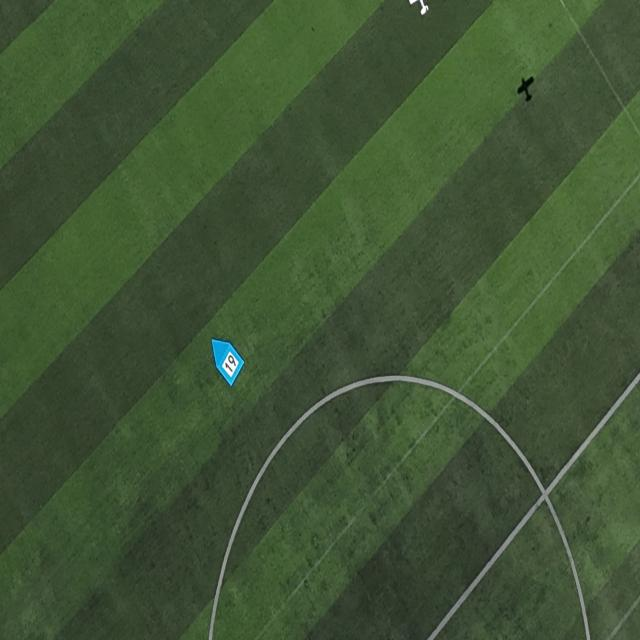board: (211, 340, 245, 387)
